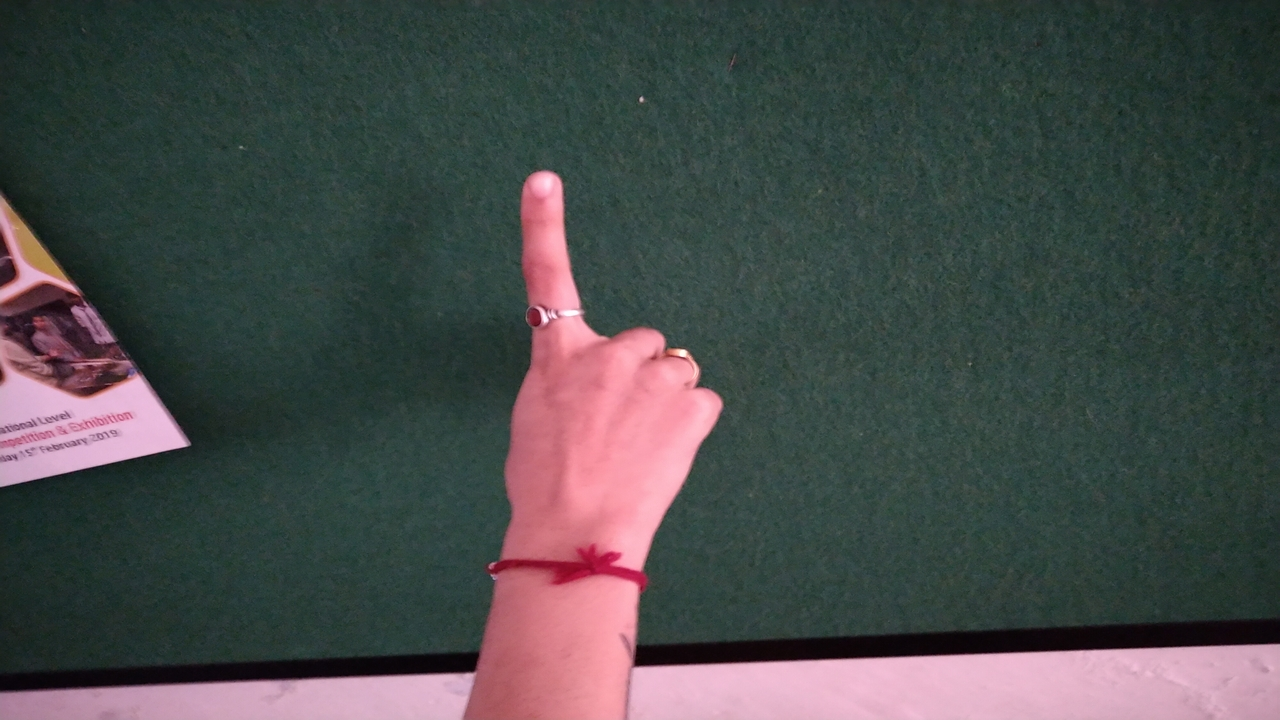fingertip: (512, 162, 568, 210)
